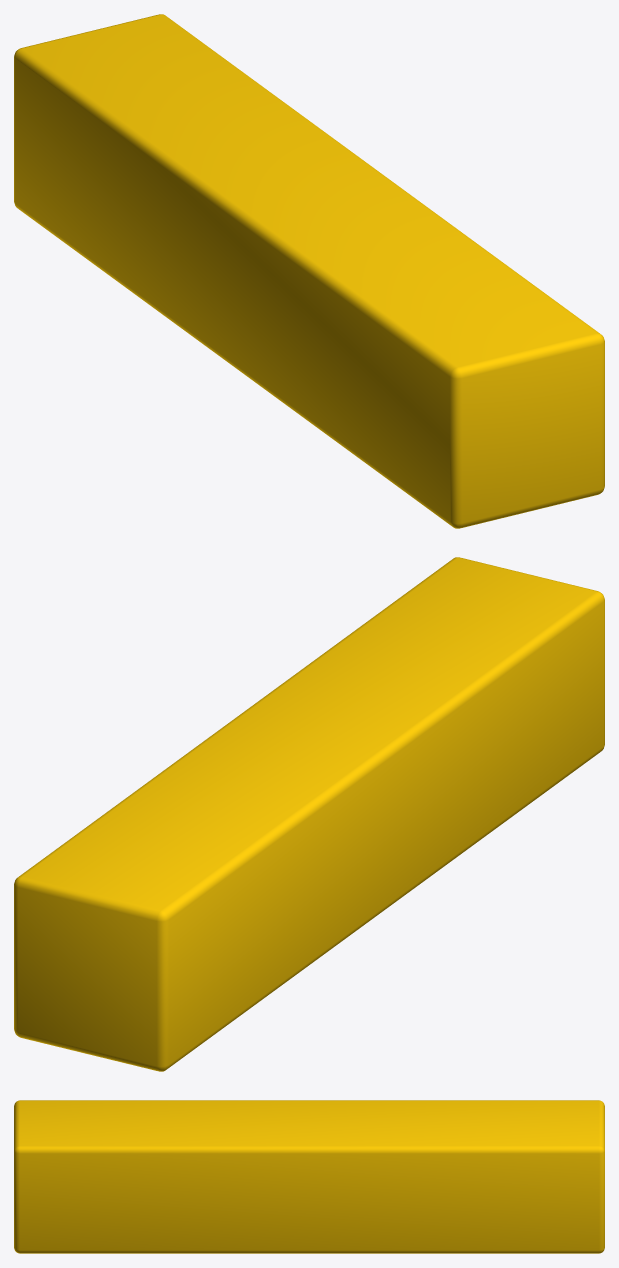
Rendered from Cuis_Yellow.fbx.
3 renders of one model, top to bottom at view 1: azimuth 30°, elevation 25°; view 2: azimuth 150°, elevation 25°; view 3: azimuth 270°, elevation 25°, orthographic. The views are drawn at different scales.
Parts seen in each view (by area): view 1: Yellow; view 2: Yellow; view 3: Yellow.
Part boxes in pixels (<box>): Yellow: <box>14,14,604,528</box>; Yellow: <box>14,557,604,1071</box>; Yellow: <box>14,1100,604,1253</box>.
Size of the model in its own units: 1 by 1 by 5.
